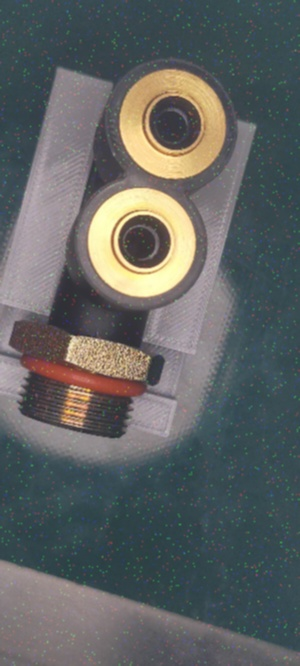white mark: (91, 325, 102, 341)
